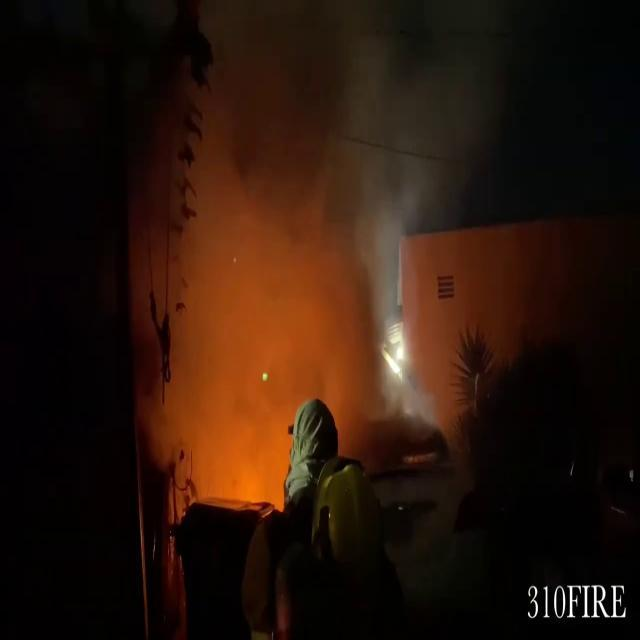Smoke: (132, 0, 472, 500)
